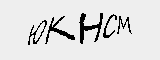К: (43, 15, 75, 44)
М: (117, 15, 132, 37)
Н: (77, 11, 104, 44)
С: (101, 11, 117, 40)
Ю: (25, 19, 47, 47)
